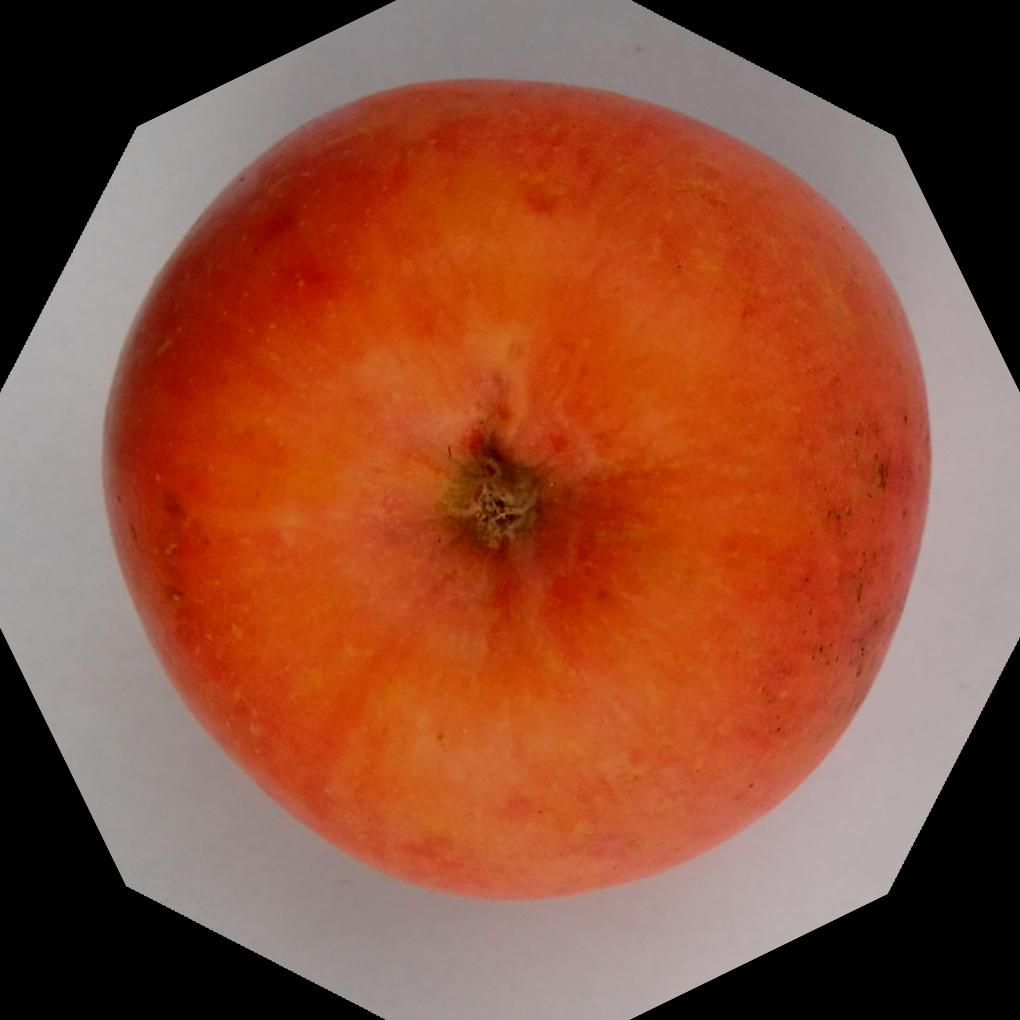FreshGuava: (102, 74, 939, 902)
